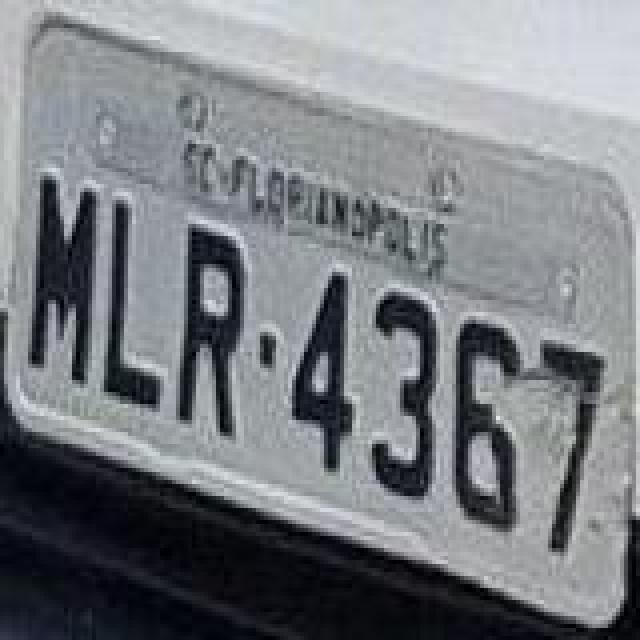3: (370, 292, 446, 508)
4: (284, 270, 356, 482)
6: (452, 312, 524, 536)
7: (536, 336, 608, 560)
L: (102, 194, 170, 414)
M: (26, 170, 102, 390)
R: (178, 220, 254, 444)
